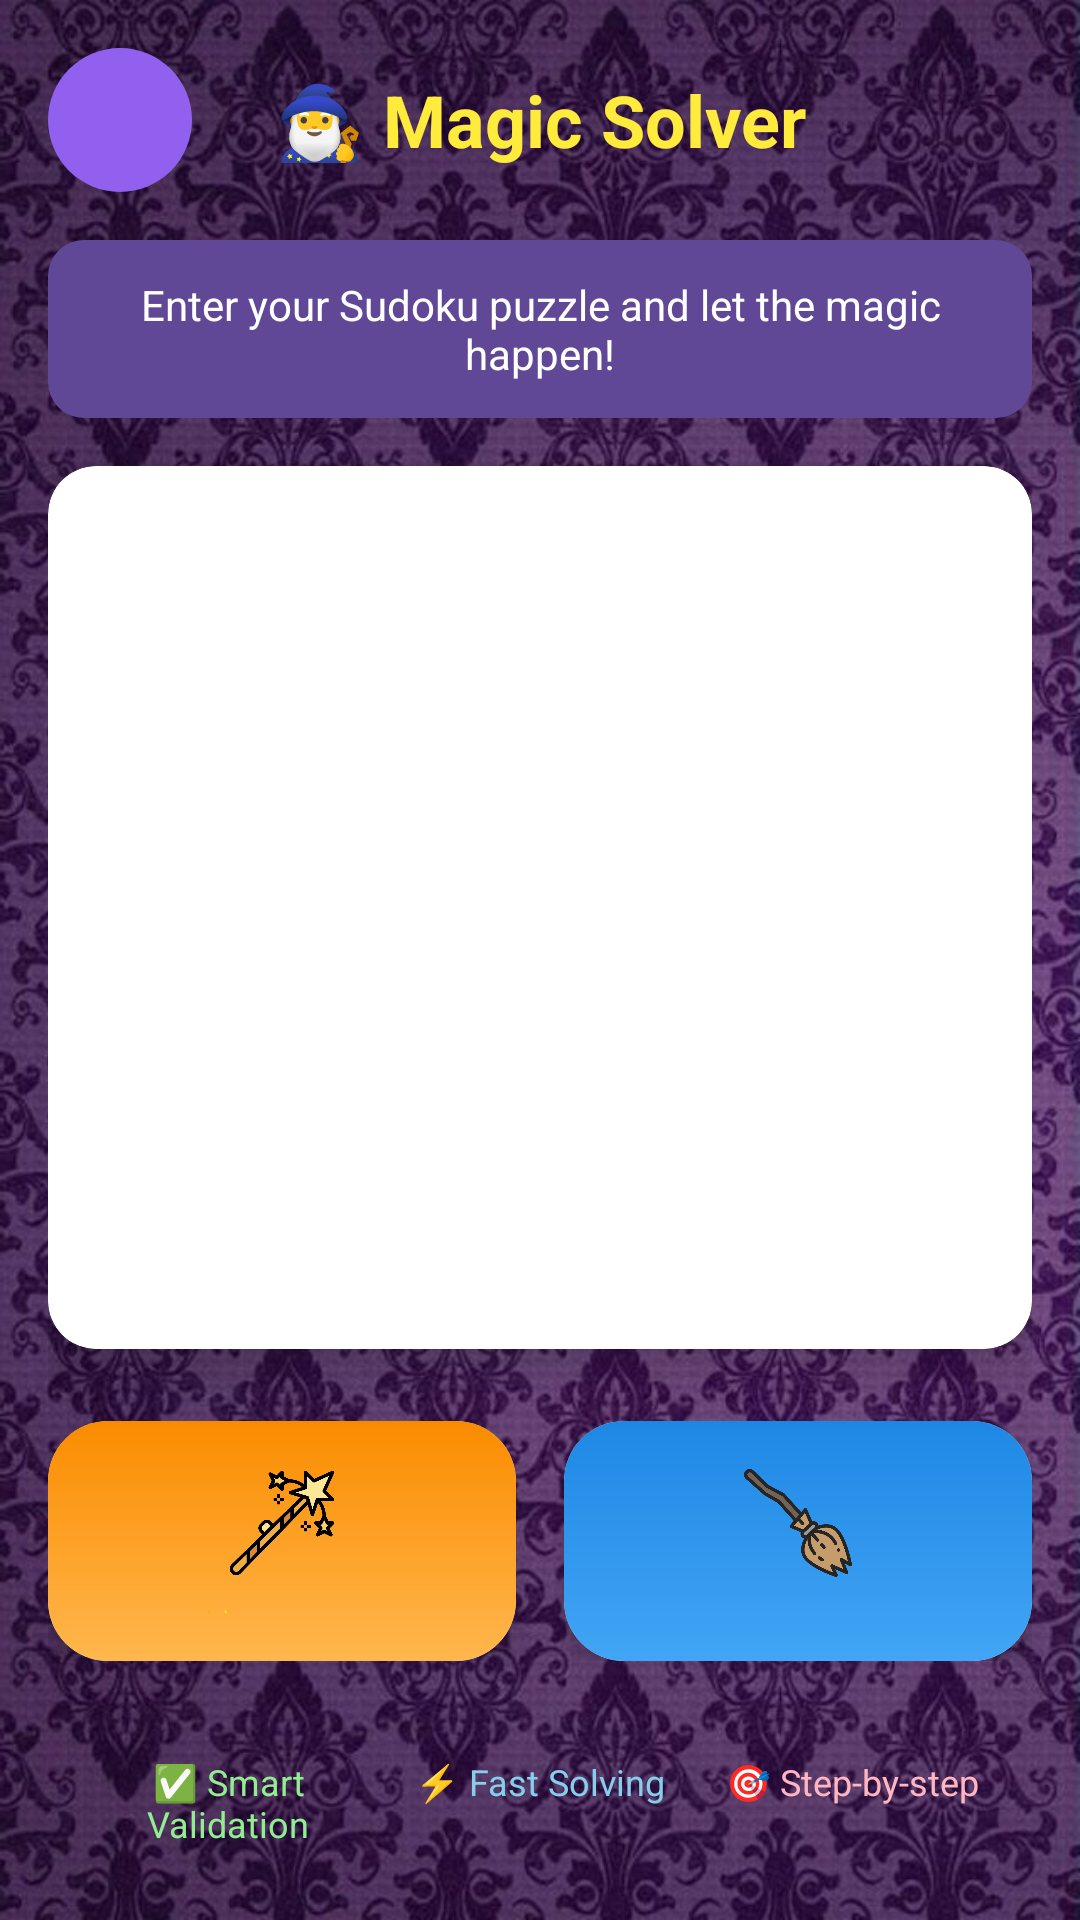

Named icons in this screenshot (1080px x 1920px) and their centers, [x,y]:
broom: [798,1523]
magicwand: [282,1523]
